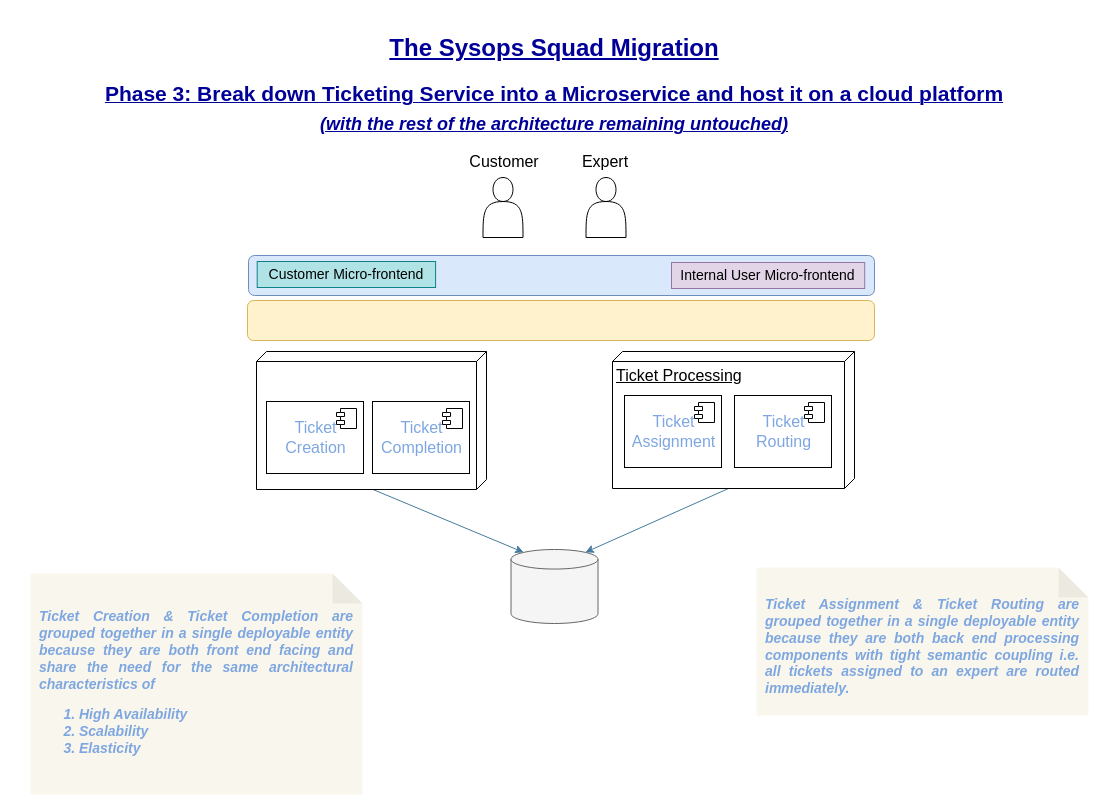
This 1108x811 diagram has some shape labels left out. The shapes that lost their labels are listed below. From the top down, each one's box as (x1, y1, x2, y2) in pixels, then its label:
(248, 254, 874, 296): UI
(246, 300, 874, 340): API Layer
(256, 350, 486, 490): Ticket Lifecycle Management
(510, 548, 598, 624): DB
